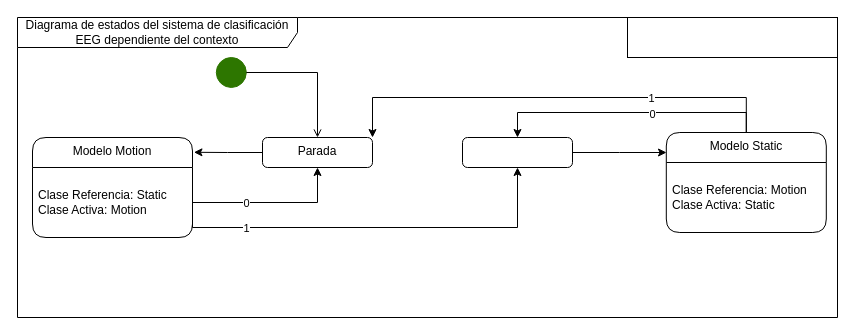
This 855x335 diagram has some shape labels left out. The shapes that lost their labels are listed below. From the top down, each one's centre as x and y in pixels, then its label:
the point at 732,37: Predicción = 0 (Clase referencia) Predicción = 1 (Clase activa)
the point at 517,152: Movimiento
